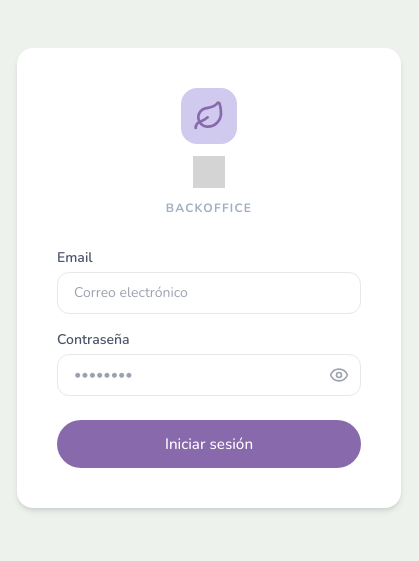
Test: BackofficeLogin › muestra error genérico del backend
Step 1. Type "admin@huly.com" into the field with placeholder "Correo electrónico" → (209, 293), box left=57, top=272, right=361, bottom=314
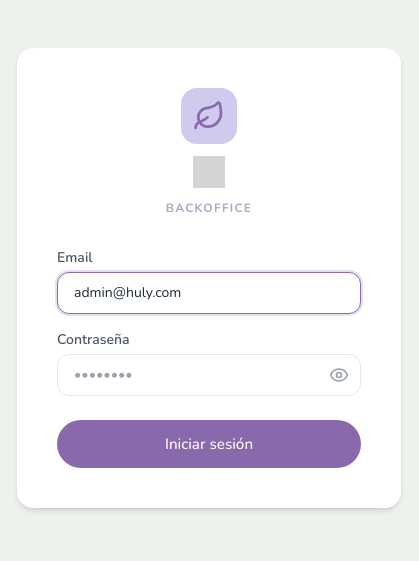
Step 2. Type "password123" into the password field with placeholder "••••••••" → (209, 375), box left=57, top=354, right=361, bottom=396
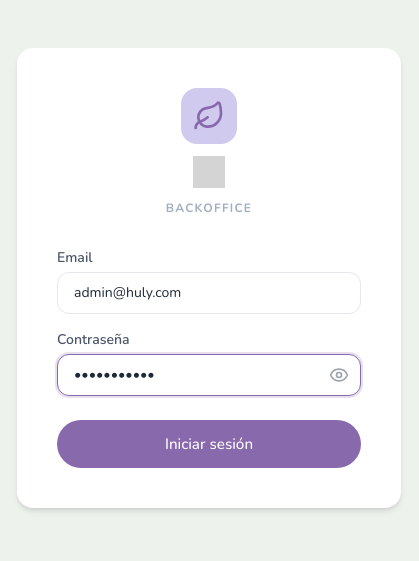
Step 3. Click the button "Iniciar sesión" → (209, 444), box left=57, top=420, right=361, bottom=468
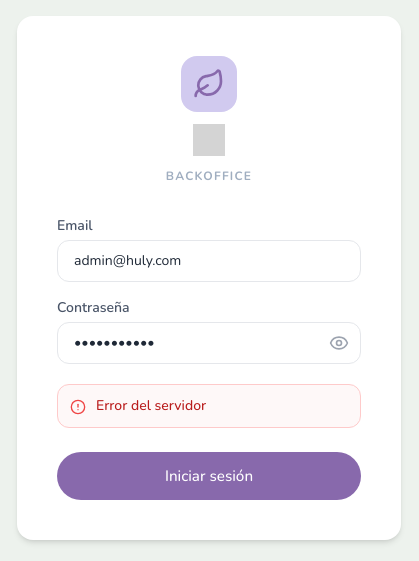
Check: the text "Error del servidor" is shown, box left=96, top=397, right=206, bottom=415
